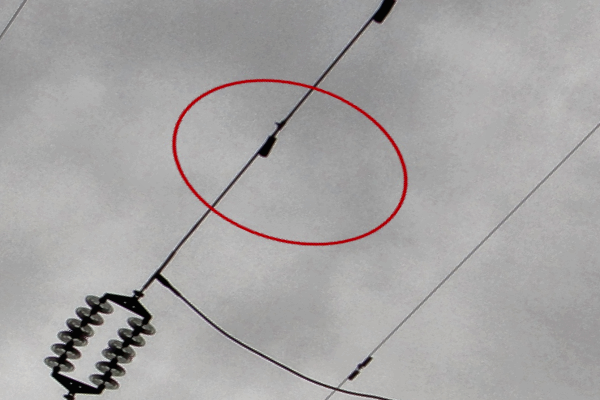damper: (345, 355, 373, 382)
damper_defect: (257, 113, 290, 159)
